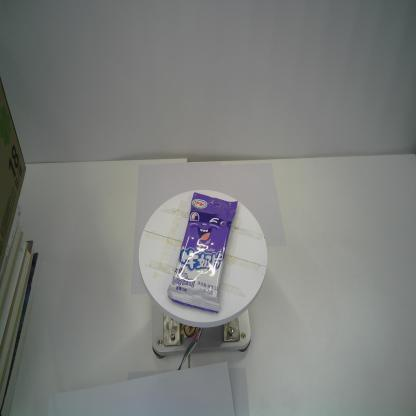Candy: (167, 192, 238, 314)
